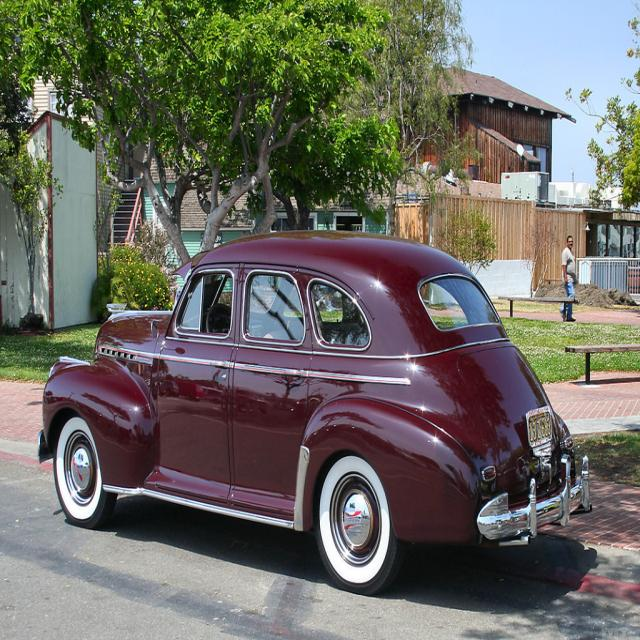car: (38, 234, 594, 597)
